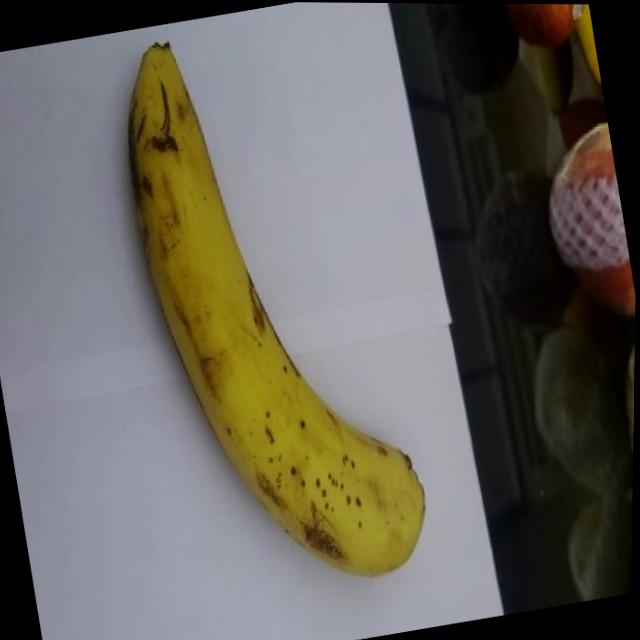Banana: (102, 8, 445, 609)
